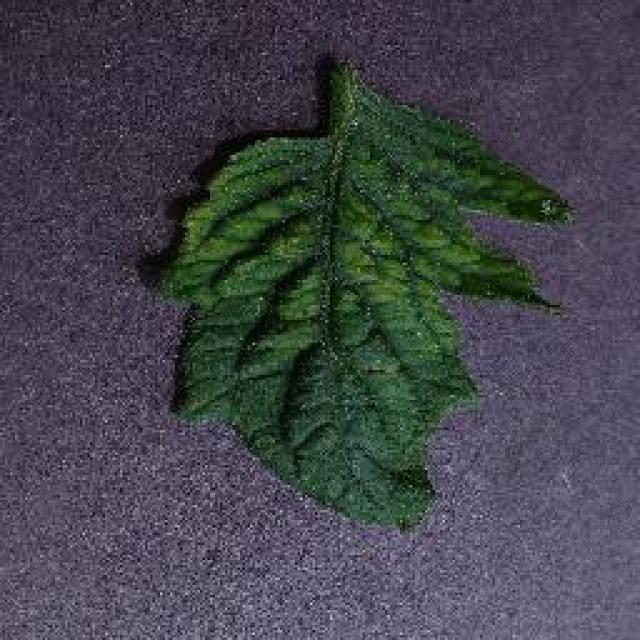Tomato spider mites leaf: (148, 56, 574, 534)
